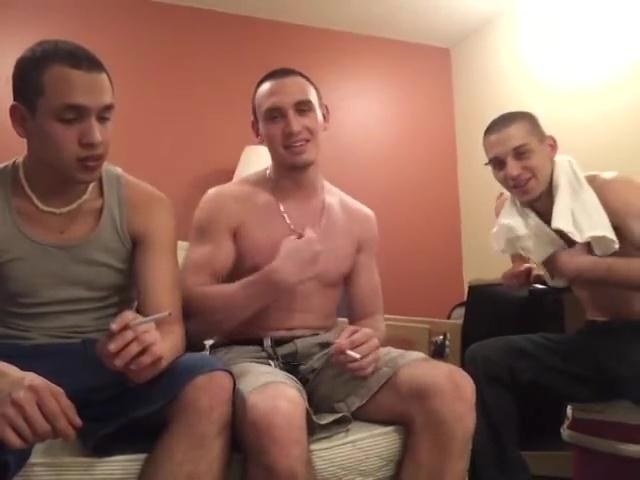cigarette: (122, 311, 174, 334), (342, 351, 364, 359)
